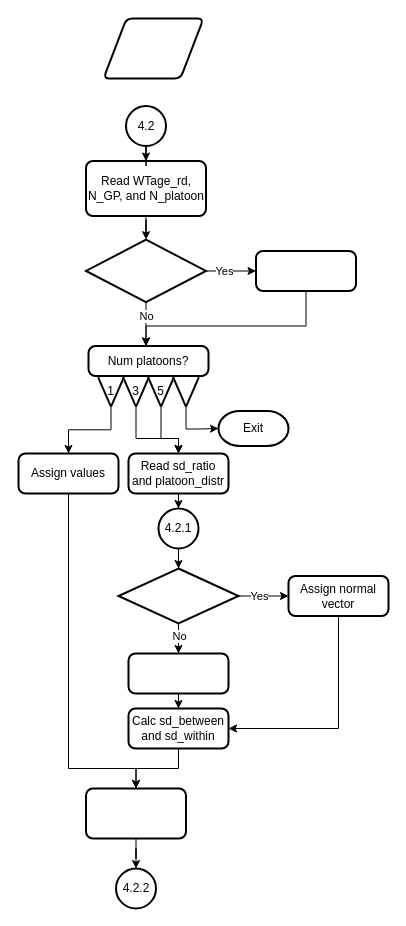
The diagram is 406 pixels wide and 926 high, and some of its shapes have lost their labels. Here are the shapes that lost their labels. From the top down, the centre of each, then its label:
At (153,48): "PROPOSED".
At (145,270): "WTage_rd and nobs_mnwt > 1?".
At (305,271): "Output warning".
At (185,390): "else".
At (178,595): "First distr < 0?".
At (178,673): "Normalize platoon_distr".
At (135,813): "Fill shadow and ishadow by num platoons".
